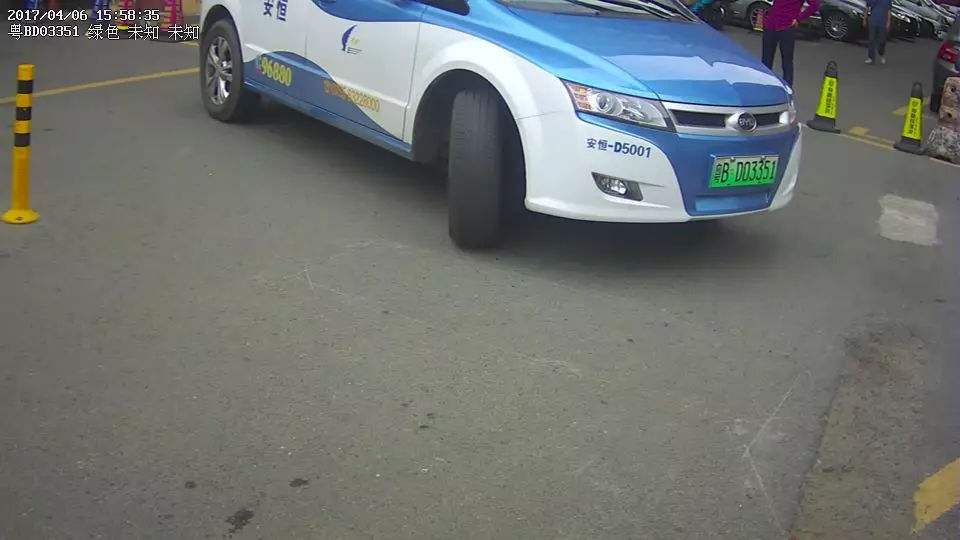plate: (698, 137, 793, 207)
